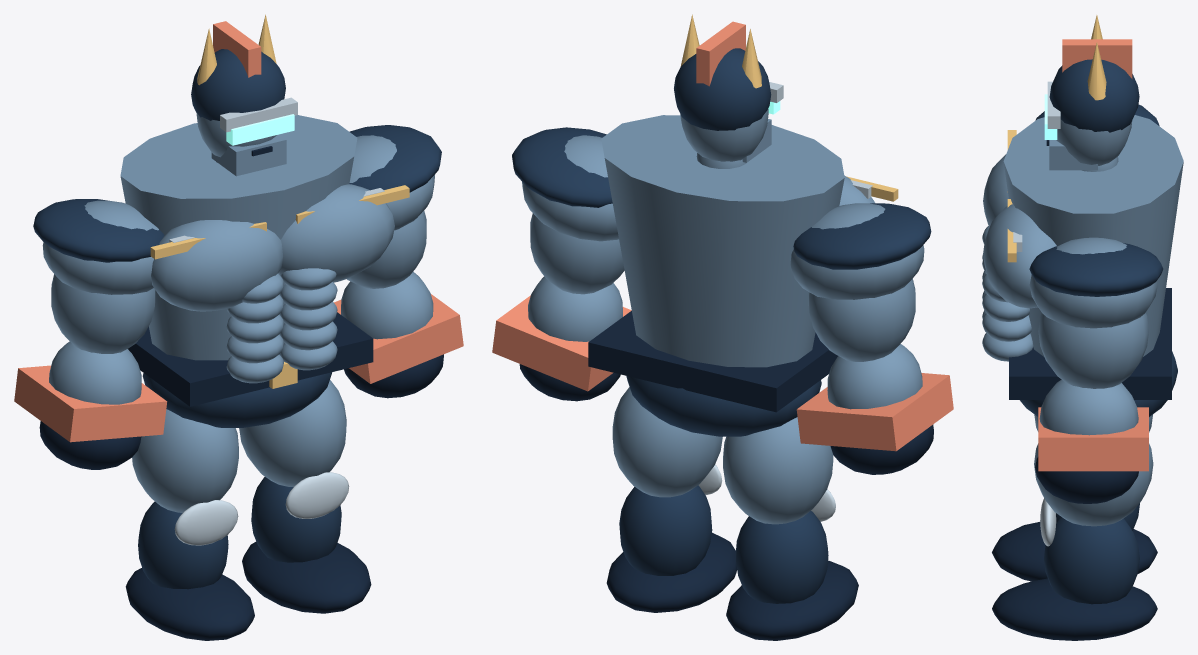
The model's file is legendary.glb.
3 views of the same model, side by side, from view 1: azimuth 30°, elevation 25°; view 2: azimuth 150°, elevation 25°; view 3: azimuth 270°, elevation 25° (orthographic). The views are drawn at different scales.
Visible parts, largest first — view 1: Torso, Pectoral_L, Thigh_L, Pectoral_R, Thigh_R, Cosmetic_Bracer_L, Belt, Boot_R, Boot_L, Bicep_L, ShoulderPlate_L, Shin_L (+31 smaller); view 2: Torso, Belt, Thigh_L, Thigh_R, Cosmetic_Bracer_L, Shin_L, Shin_R, Bicep_L, ShoulderPlate_L, Pelvis, Helmet, Boot_R (+13 smaller); view 3: Torso, Shin_R, Boot_R, Bicep_R, ShoulderPlate_R, Cosmetic_Bracer_R, Helmet, Deltoid_R, Belt, Forearm_R, Pectoral_R, Boot_L (+14 smaller).
Part boxes in pixels (bbox=[...]): Torso: bbox=[120, 115, 357, 360]; Pectoral_L: bbox=[151, 220, 282, 311]; Thigh_L: bbox=[132, 409, 238, 512]; Pectoral_R: bbox=[279, 184, 394, 282]; Thigh_R: bbox=[239, 380, 346, 486]; Cosmetic_Bracer_L: bbox=[14, 365, 167, 442]; Belt: bbox=[128, 312, 373, 406]; Boot_R: bbox=[242, 541, 371, 613]; Boot_L: bbox=[125, 568, 254, 640]; Bicep_L: bbox=[51, 274, 155, 353]; ShoulderPlate_L: bbox=[33, 199, 164, 262]; Shin_L: bbox=[138, 501, 228, 589]; Torso: bbox=[601, 115, 844, 367]; Belt: bbox=[588, 311, 837, 412]; Thigh_L: bbox=[723, 417, 833, 524]; Thigh_R: bbox=[612, 387, 722, 497]; Cosmetic_Bracer_L: bbox=[796, 373, 953, 451]; Shin_L: bbox=[735, 511, 828, 603]; Shin_R: bbox=[619, 485, 712, 575]; Bicep_L: bbox=[808, 278, 915, 361]; ShoulderPlate_L: bbox=[793, 203, 931, 269]; Pelvis: bbox=[626, 376, 821, 436]; Helmet: bbox=[674, 48, 771, 130]; Boot_R: bbox=[606, 532, 737, 612]; Torso: bbox=[1003, 115, 1183, 356]; Shin_R: bbox=[1044, 517, 1139, 604]; Boot_R: bbox=[992, 578, 1157, 640]; Bicep_R: bbox=[1038, 312, 1148, 388]; ShoulderPlate_R: bbox=[1029, 243, 1163, 296]; Cosmetic_Bracer_R: bbox=[1038, 407, 1148, 471]; Helmet: bbox=[1049, 59, 1139, 132]; Deltoid_R: bbox=[1029, 237, 1157, 328]; Belt: bbox=[1009, 288, 1171, 399]; Forearm_R: bbox=[1039, 379, 1138, 435]; Pectoral_R: bbox=[983, 204, 1056, 308]; Boot_L: bbox=[992, 522, 1157, 581].
Bounding box in the file's own units: 2.51 × 3.54 × 1.12.
